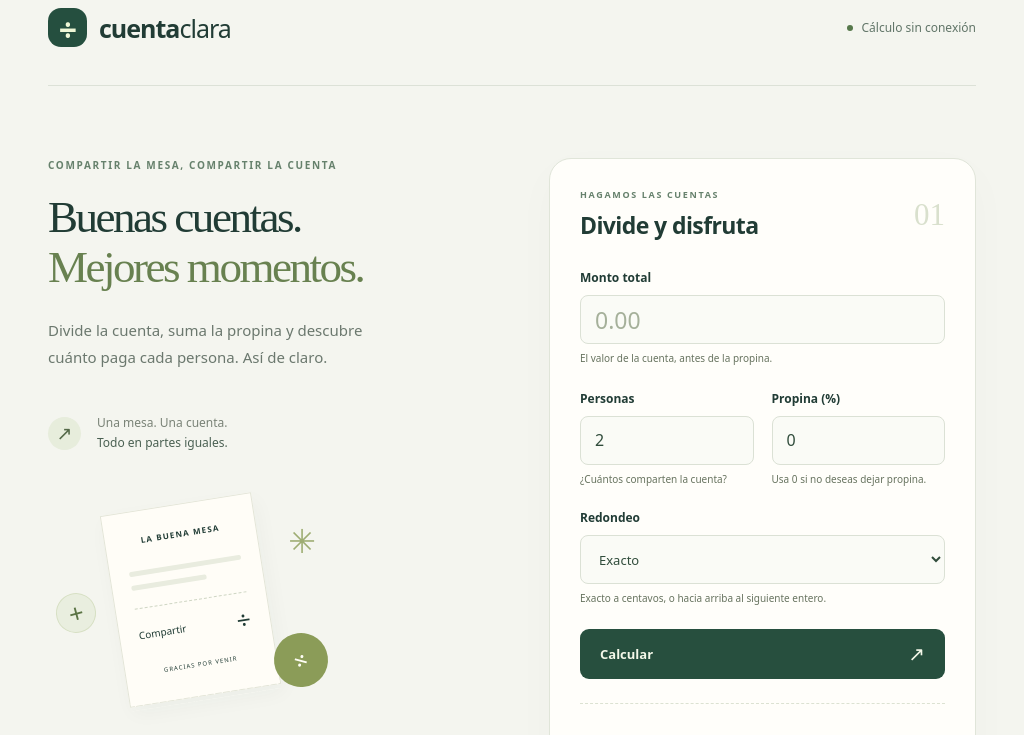
Rechaza monto textual  completo
Click the button "Calcular ↗". click: (627, 654)
box: [580, 628, 945, 678]
(page scrolled)
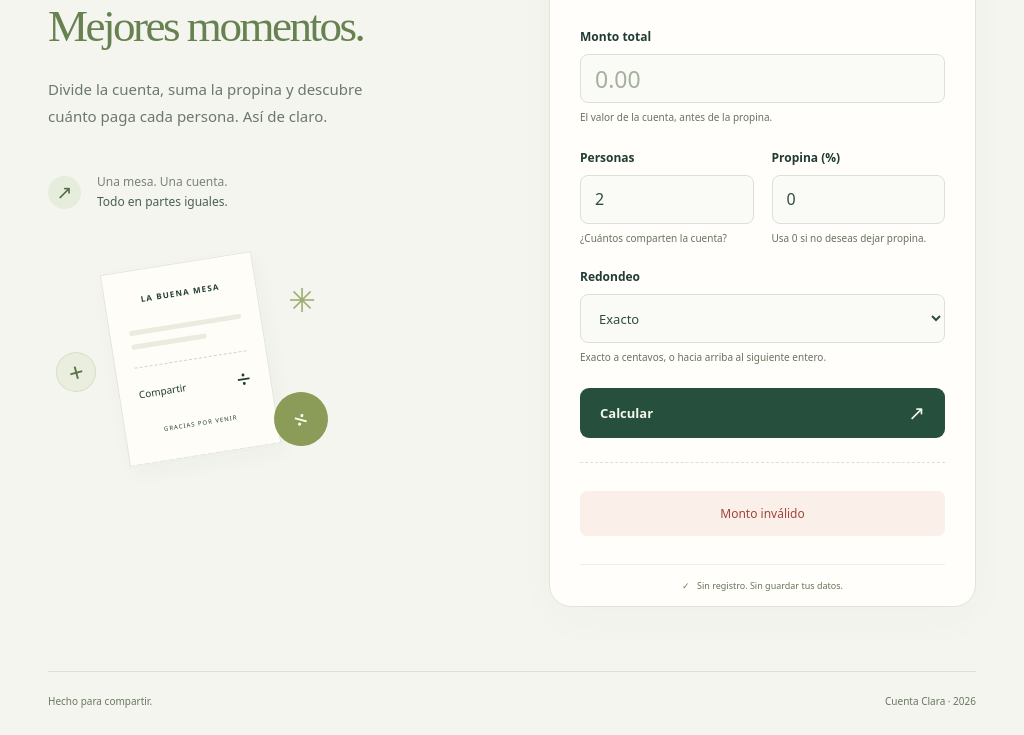
Now the message reads "Monto inválido", box [720, 504, 805, 522]
